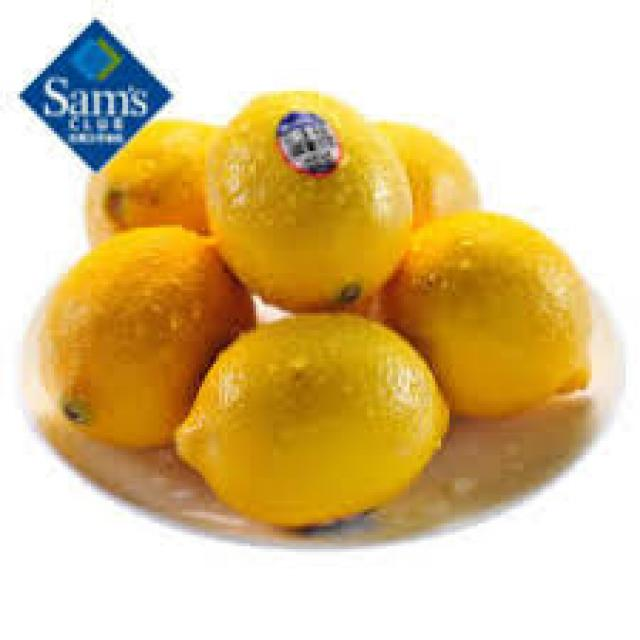organic waste: (173, 310, 450, 532), (40, 225, 253, 455), (202, 85, 412, 313), (372, 210, 592, 421), (82, 119, 228, 239), (367, 117, 481, 219)
